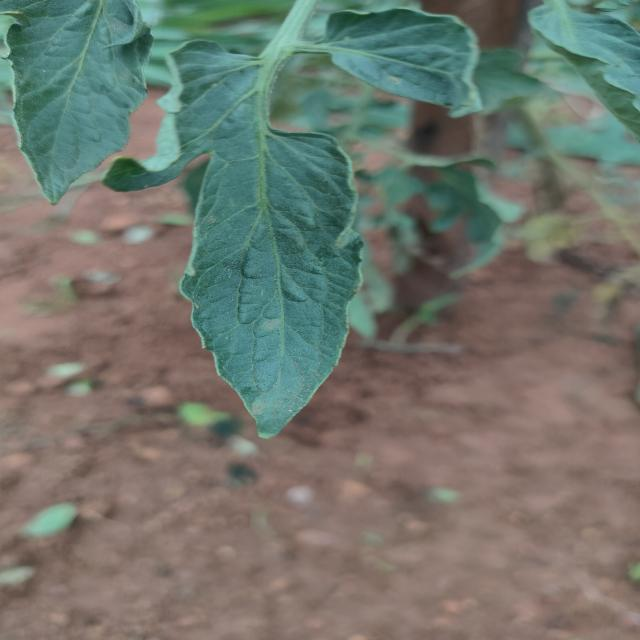tomato_healthy: (167, 43, 369, 437)
